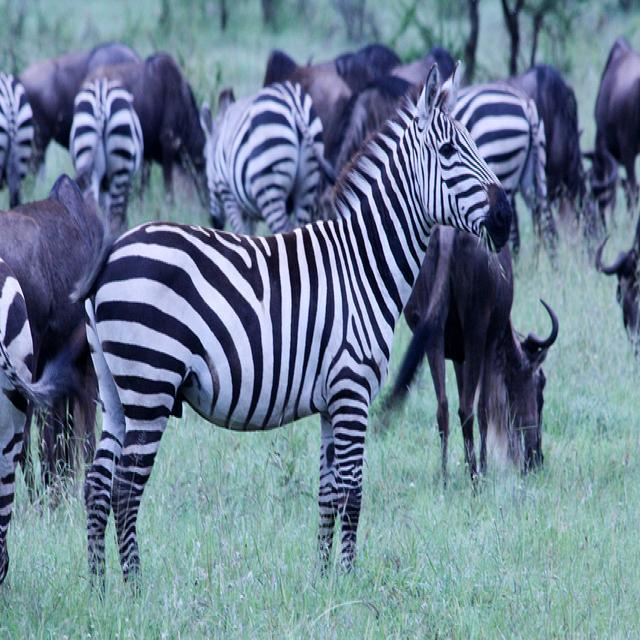cow: (385, 220, 559, 487)
